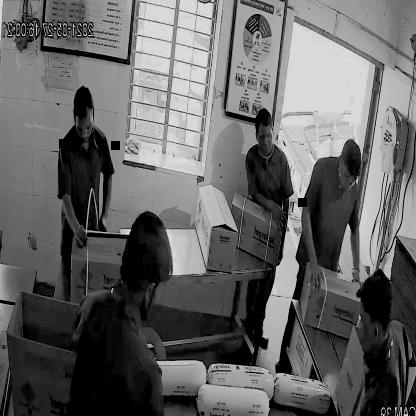no_goggles: (70, 117, 96, 138)
